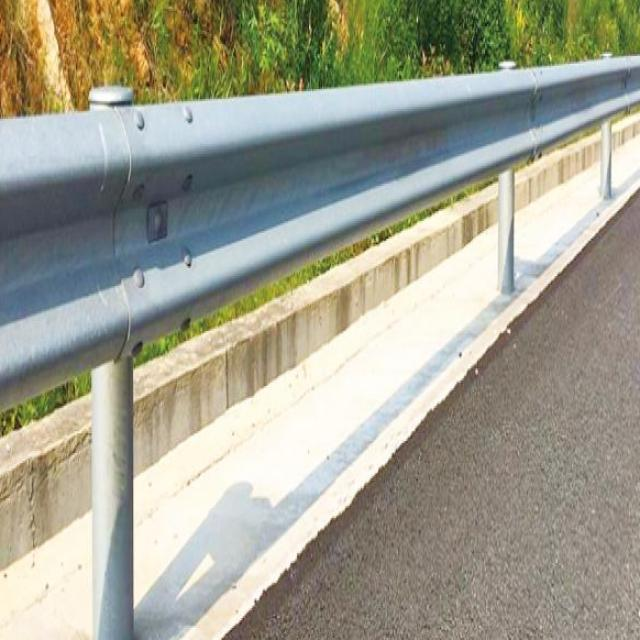Guard rail: (0, 56, 640, 404)
